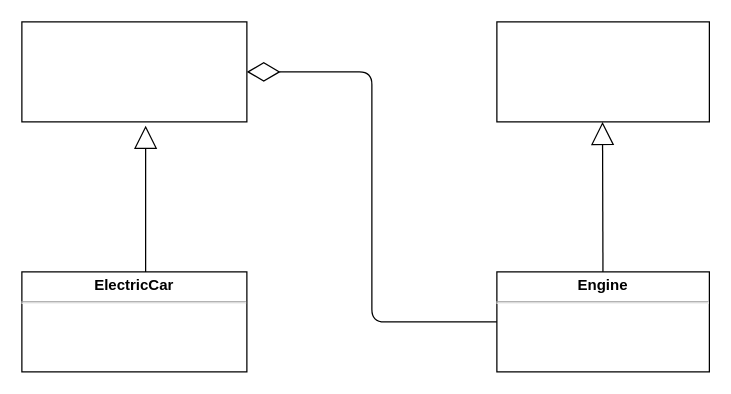
This 731x394 diagram has some shape labels left out. Each missing label, with the centre of its shape:
"Car" goes at (x=134, y=71).
"ElectricMotor" goes at (x=602, y=71).
